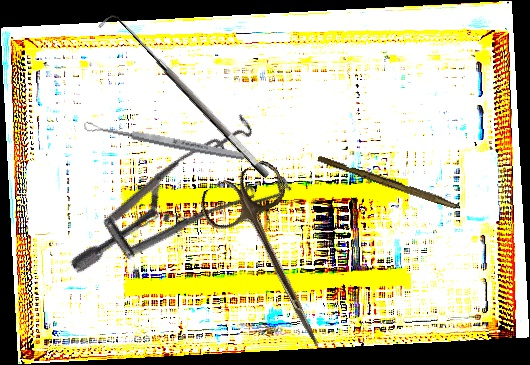Hook Surgical: (96, 5, 272, 191)
Iris Scissors: (194, 156, 359, 364)
Scalpel Handle: (316, 154, 459, 210)
Speculum: (66, 76, 313, 347)
Surgical Spoon: (82, 119, 247, 163)
